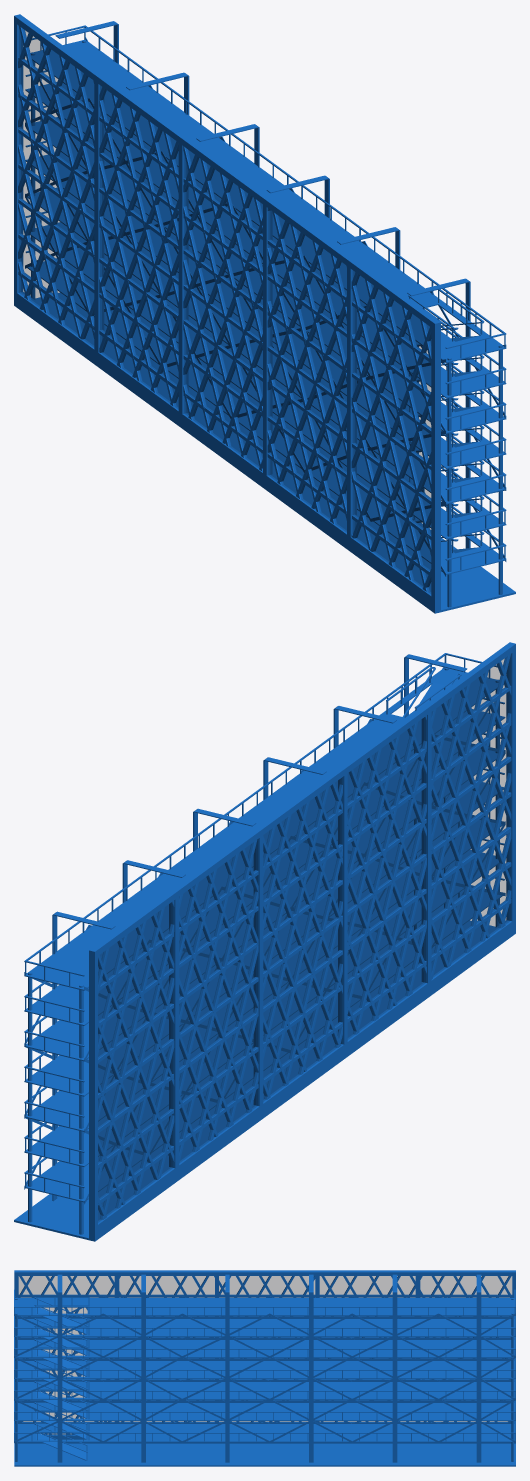
Rendered from arst_wall.fbx.
The picture shows the model from 3 angles, top to bottom: view 1: azimuth 30°, elevation 25°; view 2: azimuth 150°, elevation 25°; view 3: azimuth 270°, elevation 25°; orthographic projection. The views are drawn at different scales.
Parts seen in each view (by area): view 1: Cube_4; view 2: Cube_4; view 3: Cube_4.
Part boxes in pixels (x1,y1,x2,y2): Cube_4: [14, 14, 515, 613]; Cube_4: [14, 642, 515, 1241]; Cube_4: [14, 1270, 515, 1466].
Bounding box in the file's own units: 500 × 1710 × 4504.
